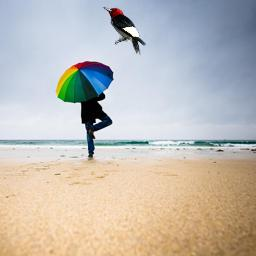Woodpecker: (102, 7, 147, 56)
